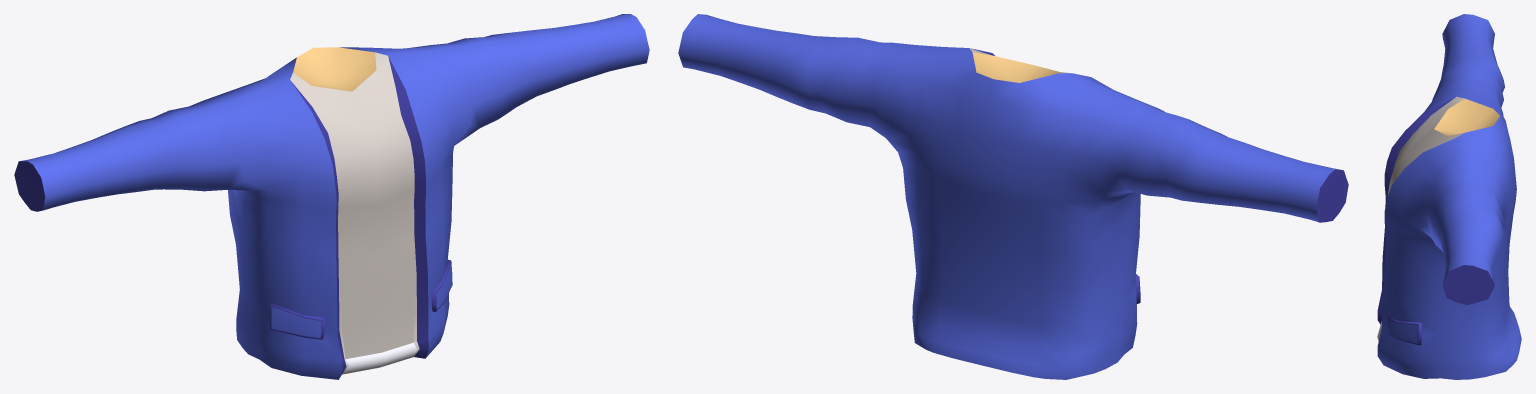
The model's file is Torso_14_02.fbx.
The picture shows the model from 3 angles, left to right: view 1: azimuth 30°, elevation 25°; view 2: azimuth 150°, elevation 25°; view 3: azimuth 270°, elevation 25°; orthographic projection. The views are drawn at different scales.
Parts seen in each view (by area): view 1: Torso_14_02; view 2: Torso_14_02; view 3: Torso_14_02.
Part boxes in pixels (<box>): Torso_14_02: <box>14,14,649,379</box>; Torso_14_02: <box>678,14,1348,379</box>; Torso_14_02: <box>1377,14,1521,379</box>.
Size of the model in its own units: 118 by 50.73 by 28.69.
